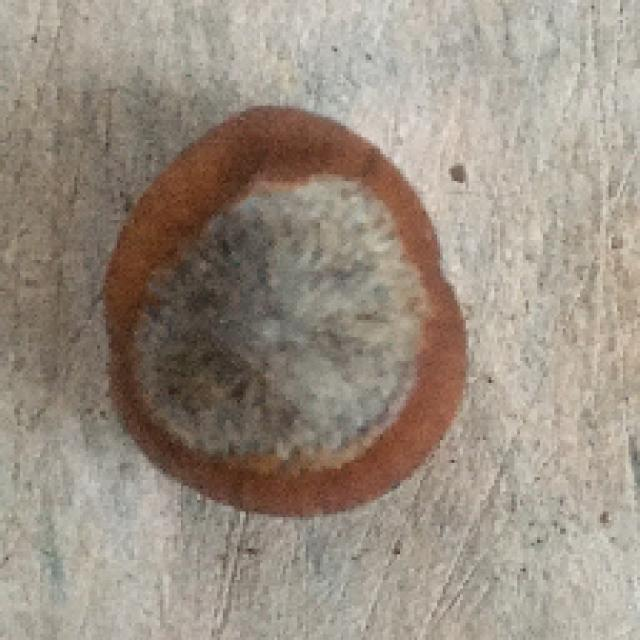qualityHazelnut: (103, 106, 481, 519)
